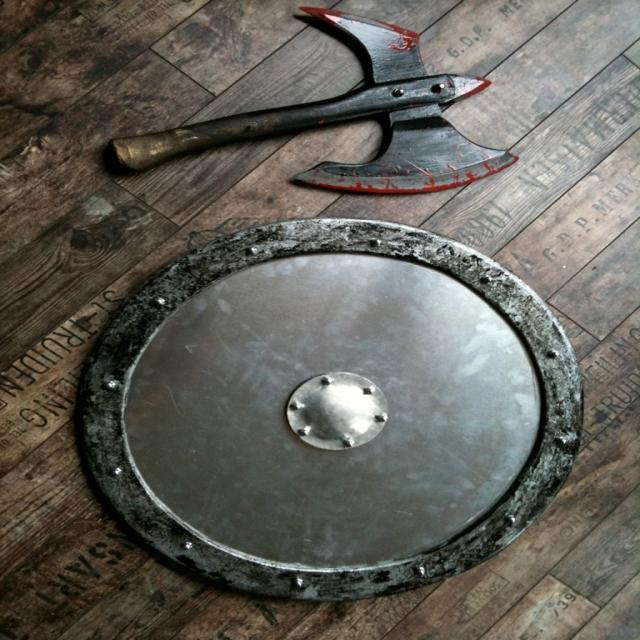Axe: (110, 8, 518, 193)
